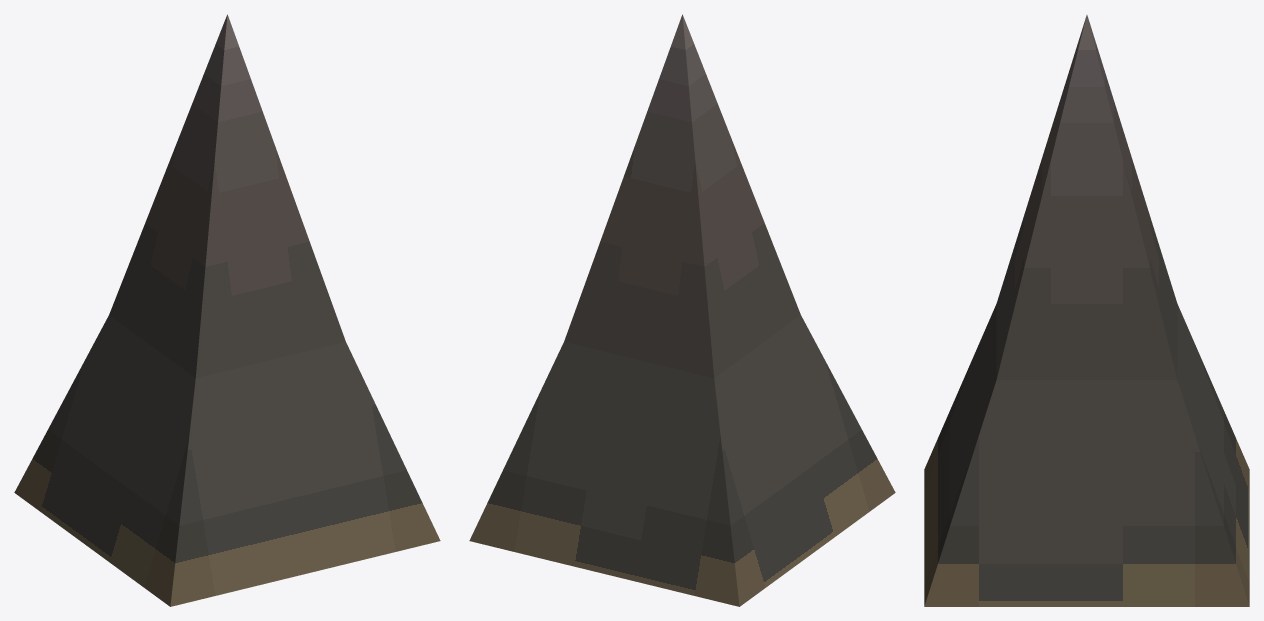
Rendered from Stalagmite_big.obj.
3 views of the same model, side by side, from view 1: azimuth 30°, elevation 25°; view 2: azimuth 150°, elevation 25°; view 3: azimuth 270°, elevation 25° (orthographic). The views are drawn at different scales.
Parts seen in each view (by area): view 1: pyramid; view 2: pyramid; view 3: pyramid.
Boxes of the visible parts, left/top/right/bottom form: pyramid: left=14, top=14, right=440, bottom=606; pyramid: left=469, top=14, right=895, bottom=606; pyramid: left=924, top=15, right=1249, bottom=606.
Bounding box in the file's own units: 0.2812 × 0.5 × 0.2812.
Materials: 1 (1 with a texture image).
